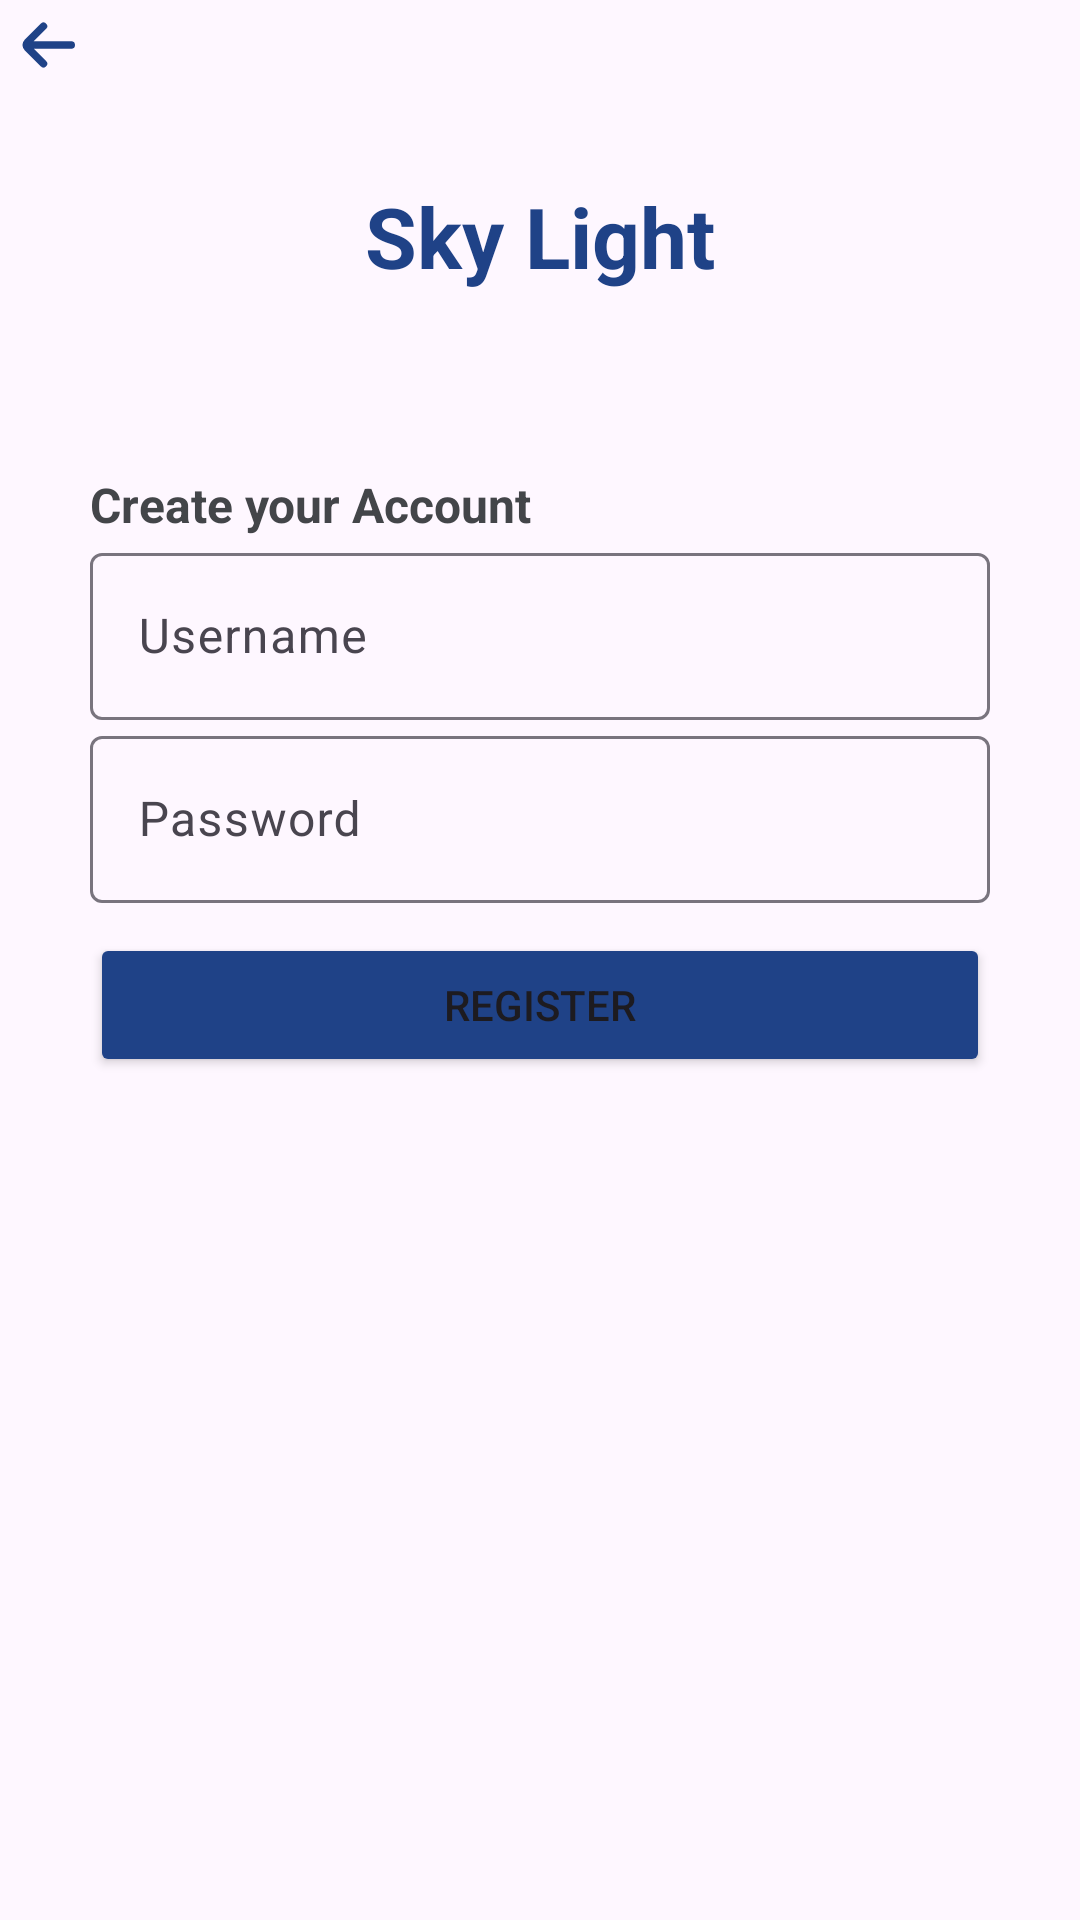

Icons on this 1080×1920 Android screen, each with its box as bbox=(x1, y1, x2, y2):
back: bbox=(22, 22, 75, 68)
